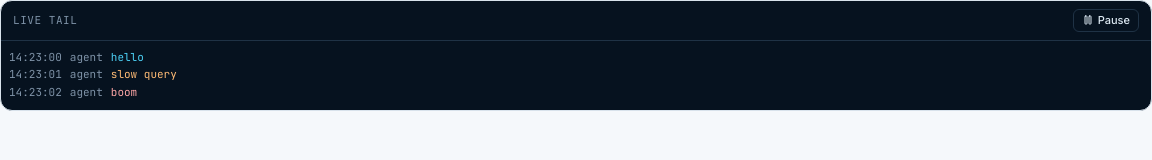
Test: LiveTail › toggles the pause button between Pause and Resume
The width and height of the screenshot is (1152, 160).
Click the button with test id "livetail-pause-toggle": (1106, 20) [1073,9,1139,32]
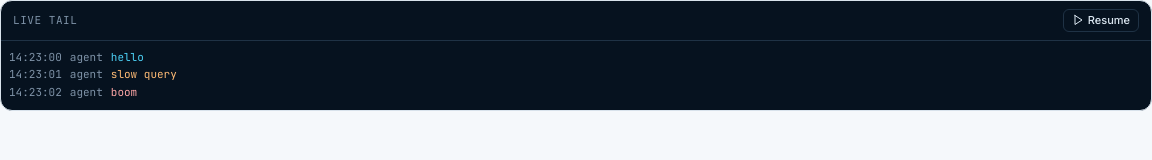
Now the button with test id "livetail-pause-toggle" reads "Resume"
Click the button with test id "livetail-pause-toggle": (1101, 20) [1063,9,1139,32]
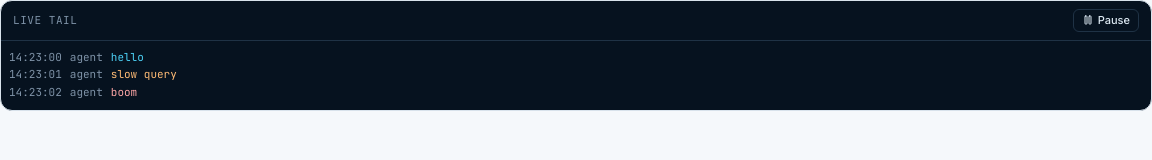
Now the button with test id "livetail-pause-toggle" reads "Pause", box [1073,9,1139,32]
